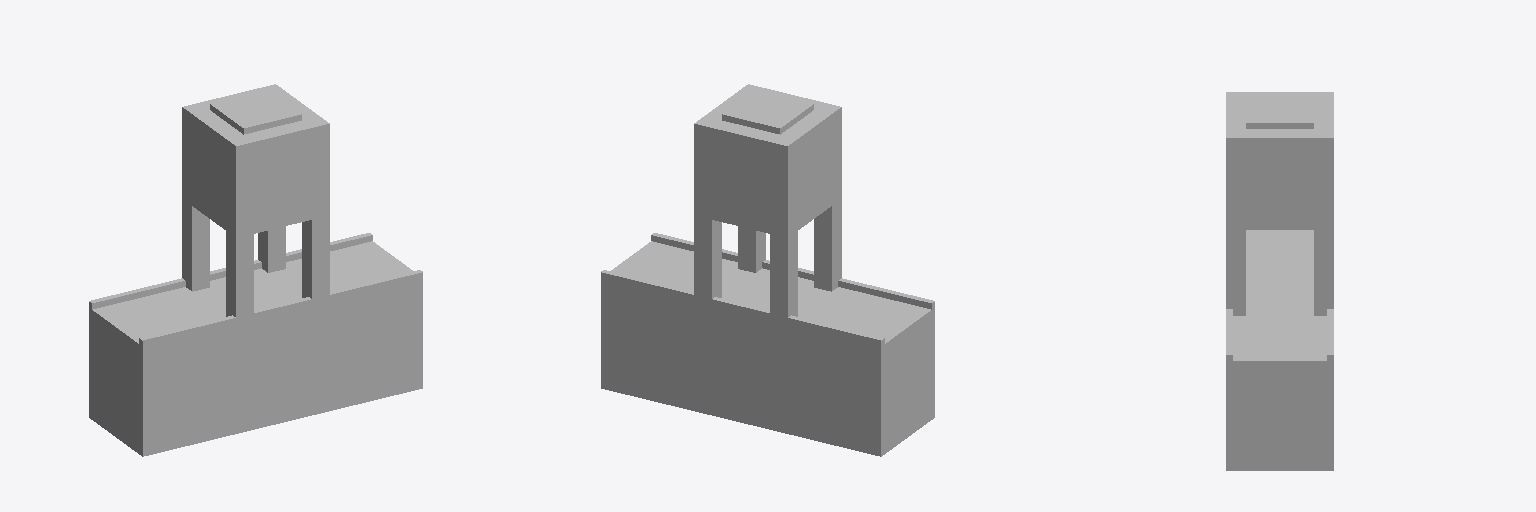
File: metal_press.obj
The picture shows the model from 3 angles: view 1: azimuth 30°, elevation 25°; view 2: azimuth 150°, elevation 25°; view 3: azimuth 270°, elevation 25°; orthographic projection.
Visible parts, largest first — view 1: base, top, back, belt_right, belt_left, energy, 1, 4, 2, belt_mid, front, 3; view 2: base, top, front, belt_right, belt_left, energy, 2, 3, 1, belt_mid, back, 4; view 3: top, base, belt_left, belt_mid, belt_right, energy, 4, 3.
Part boxes in pixels (bbox=[...]): base: bbox=[89, 291, 422, 456]; top: bbox=[182, 84, 329, 237]; back: bbox=[139, 270, 422, 358]; belt_right: bbox=[92, 287, 225, 355]; belt_left: bbox=[286, 241, 412, 290]; energy: bbox=[210, 90, 301, 134]; 1: bbox=[226, 231, 253, 323]; 4: bbox=[302, 215, 329, 304]; 2: bbox=[182, 199, 209, 291]; belt_mid: bbox=[193, 268, 301, 315]; front: bbox=[89, 233, 372, 321]; 3: bbox=[258, 226, 285, 272]; base: bbox=[601, 291, 934, 456]; top: bbox=[694, 84, 841, 237]; front: bbox=[601, 270, 884, 358]; belt_right: bbox=[798, 287, 931, 355]; belt_left: bbox=[611, 241, 737, 290]; energy: bbox=[722, 90, 813, 134]; 2: bbox=[770, 231, 797, 323]; 3: bbox=[694, 215, 721, 304]; 1: bbox=[814, 199, 841, 291]; belt_mid: bbox=[722, 268, 830, 315]; back: bbox=[651, 233, 934, 321]; 4: bbox=[738, 226, 765, 272]; top: bbox=[1226, 92, 1333, 229]; base: bbox=[1226, 373, 1333, 470]; belt_left: bbox=[1233, 316, 1326, 372]; belt_mid: bbox=[1246, 270, 1313, 315]; belt_right: bbox=[1246, 230, 1313, 269]; energy: bbox=[1246, 95, 1313, 128]; 4: bbox=[1226, 230, 1245, 315]; 3: bbox=[1314, 230, 1333, 315].
Bounding box in the file's own units: 3 × 3 × 1.